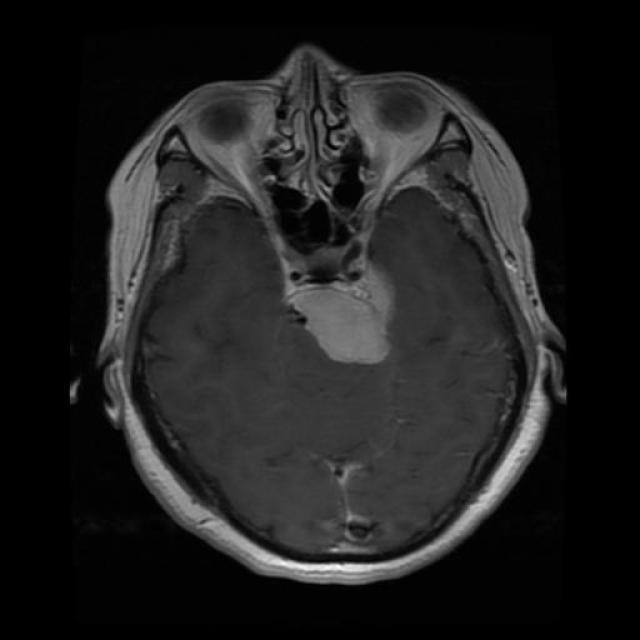meningioma: (290, 288, 391, 365)
